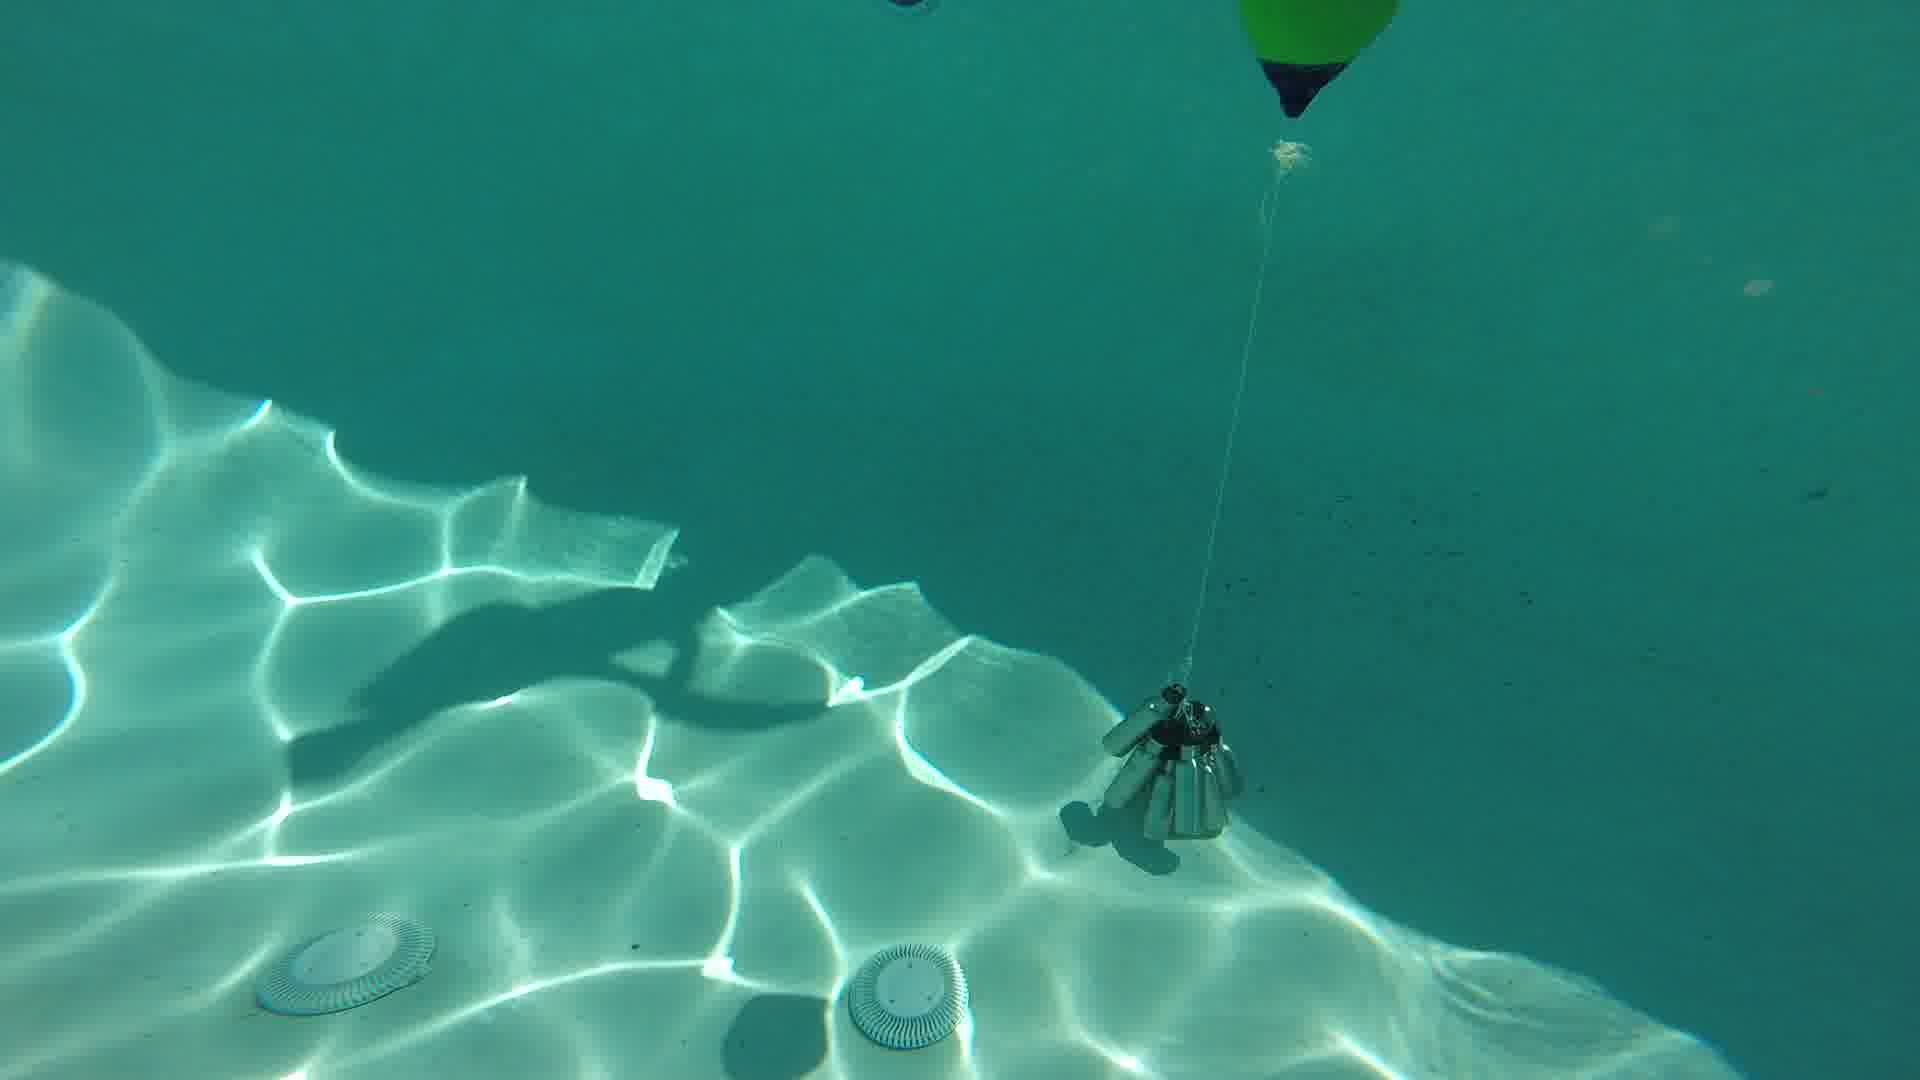yellow_buoy: (1230, 3, 1398, 173)
